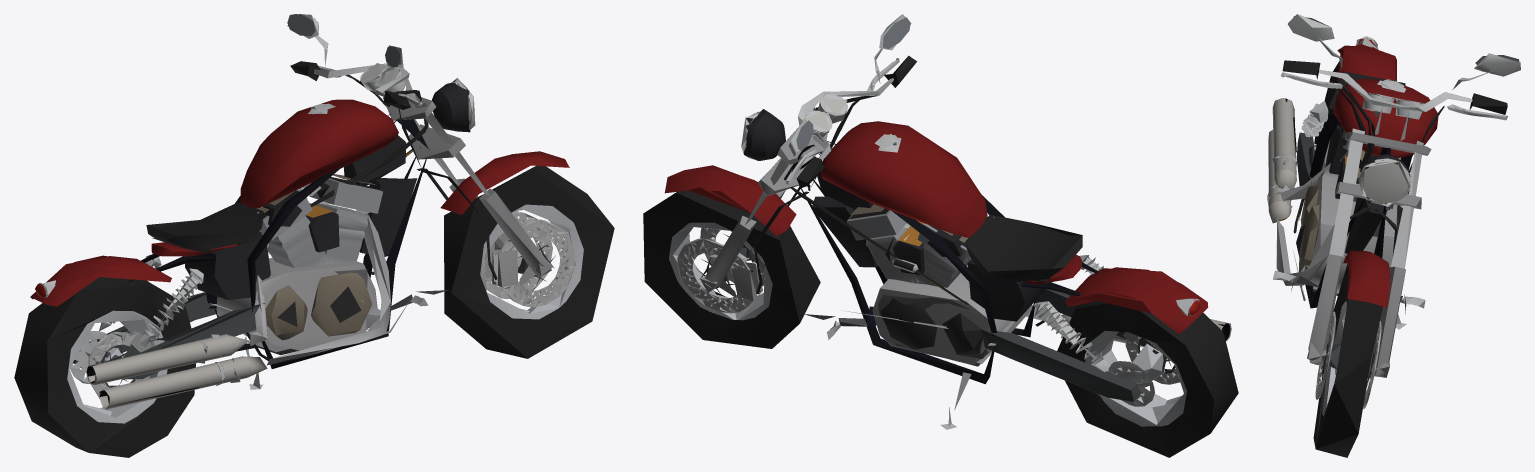
File: SM_Prop_house_bike_6_LOD1.glb
3 views of the same model, side by side, from view 1: azimuth 30°, elevation 25°; view 2: azimuth 150°, elevation 25°; view 3: azimuth 270°, elevation 25° (orthographic). The views are drawn at different scales.
Visible parts, largest first — view 1: SM_Prop_house_bike_6_LOD1; view 2: SM_Prop_house_bike_6_LOD1; view 3: SM_Prop_house_bike_6_LOD1.
Part boxes in pixels (<box>): SM_Prop_house_bike_6_LOD1: <box>14,14,614,457</box>; SM_Prop_house_bike_6_LOD1: <box>643,14,1238,457</box>; SM_Prop_house_bike_6_LOD1: <box>1267,14,1520,457</box>.
Size of the model in its own units: 2.28 by 1.32 by 0.8462.
